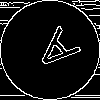A: (25, 25, 82, 81)
